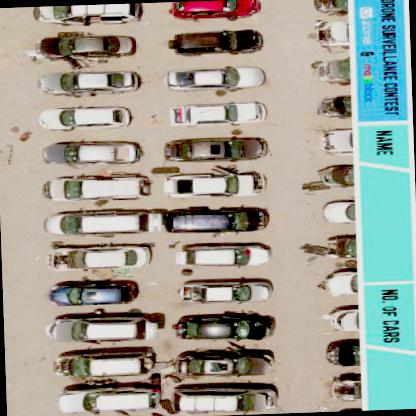car: (174, 307, 274, 342), (169, 384, 279, 414), (46, 208, 163, 236), (40, 174, 152, 203), (48, 315, 158, 344), (162, 134, 268, 164), (57, 386, 160, 416), (45, 243, 153, 271), (34, 32, 138, 61), (166, 170, 268, 199), (180, 348, 275, 379), (168, 205, 269, 234), (43, 138, 144, 166), (50, 352, 158, 378), (31, 3, 146, 27), (172, 28, 263, 58), (167, 66, 265, 93), (41, 68, 142, 94), (46, 278, 138, 306), (168, 101, 267, 127), (178, 279, 272, 305), (42, 104, 132, 130), (177, 245, 271, 269), (168, 0, 262, 23), (324, 336, 360, 367), (318, 127, 354, 156), (316, 19, 350, 49), (316, 56, 351, 85), (331, 370, 362, 402), (317, 92, 352, 120), (318, 162, 354, 188), (325, 271, 359, 296), (326, 232, 357, 259), (322, 199, 356, 223), (328, 307, 360, 332), (313, 0, 349, 16)
